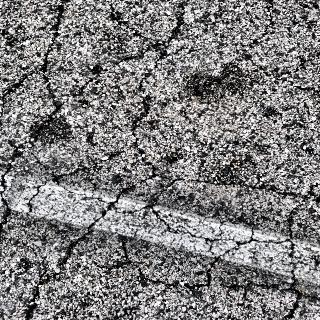alligator-crack: (12, 9, 305, 320)
